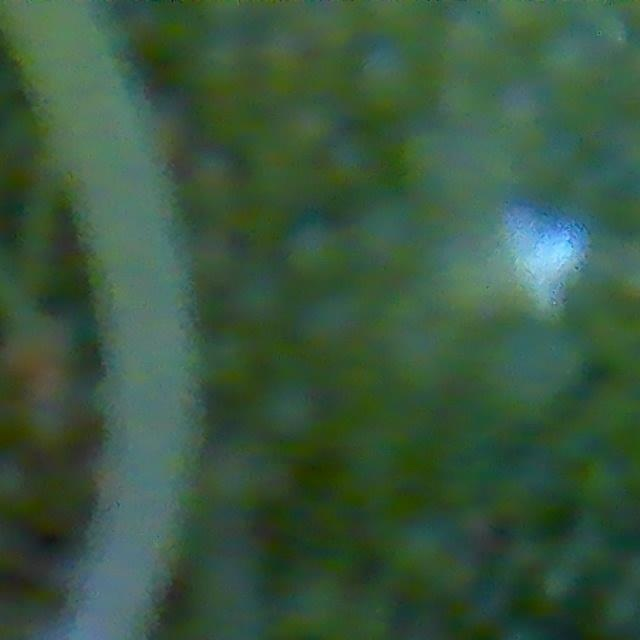SeaGrape: (357, 43, 422, 113), (286, 219, 350, 283), (324, 128, 383, 188)
